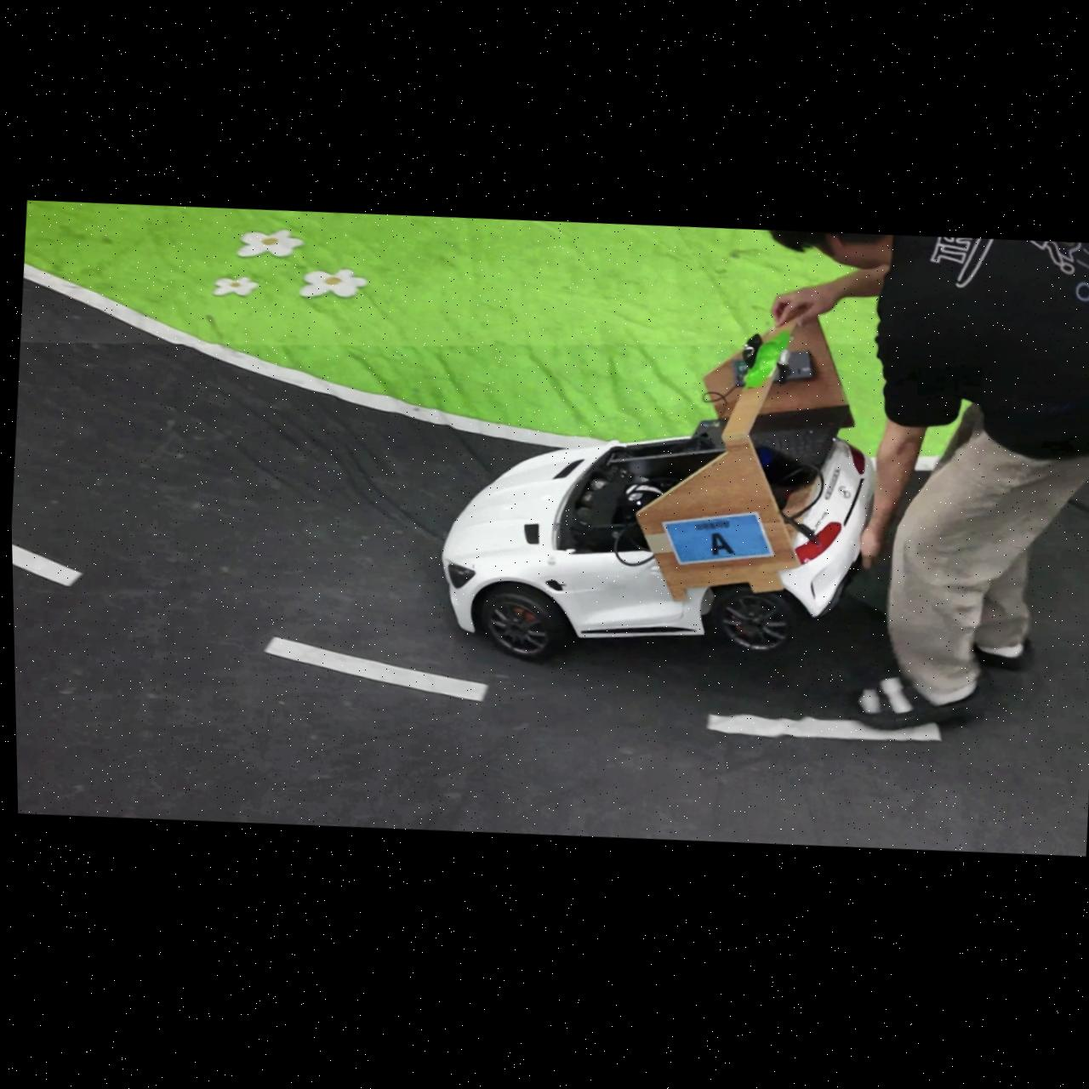broken_line: (263, 636, 489, 702), (706, 714, 943, 742), (12, 543, 83, 587)
